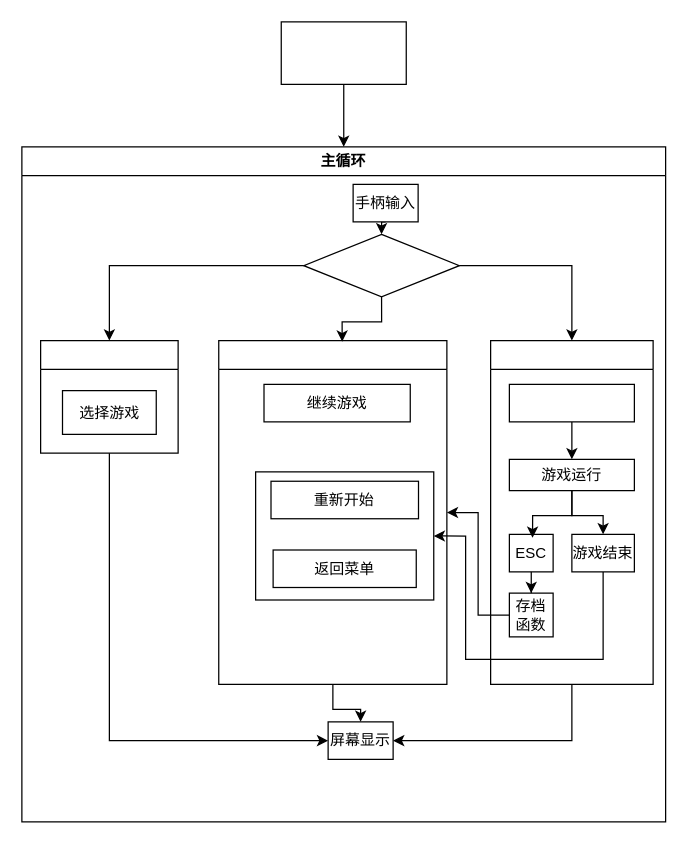
Some shapes in this 688 by 844 pixel diagram are drawn without their labels. Here are the shapes that lost their labels. From the top down, the box of each, then its label:
(280, 21, 406, 84): 初始化
(302, 233, 459, 297): 菜单游戏/判断
(39, 339, 178, 453): 菜单
(508, 383, 634, 422): 游戏初始化/读档
(218, 339, 447, 684): 二级菜单
(489, 339, 653, 684): 游戏函数
